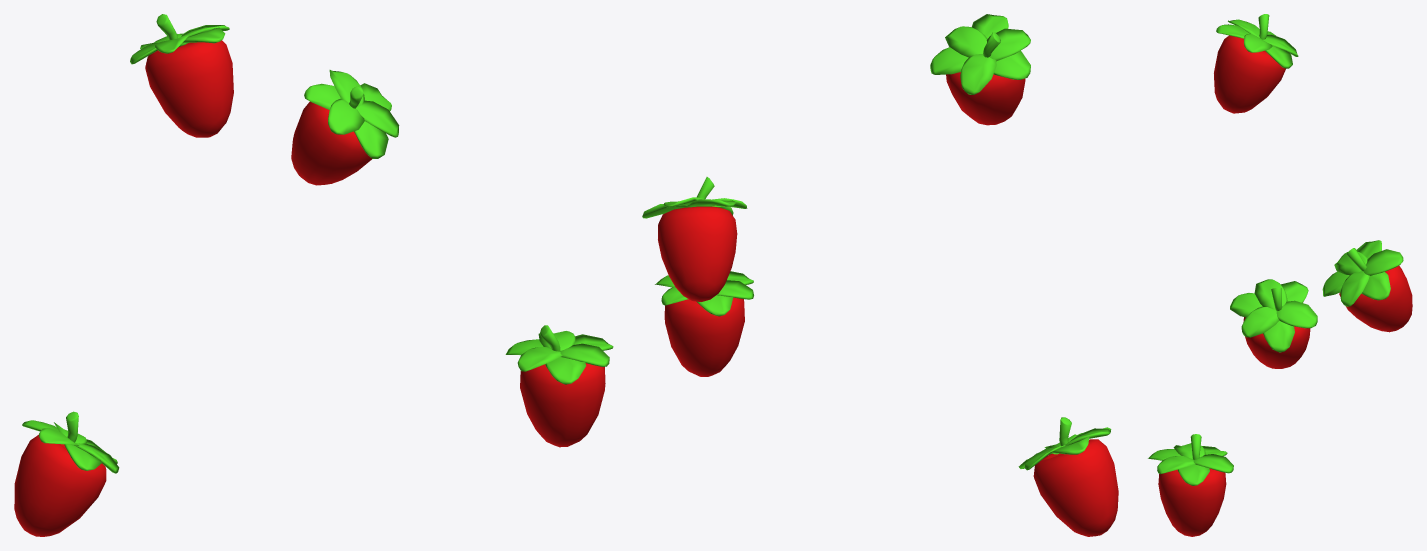
The model's file is Strawberry_Scattered.fbx.
3 renders of one model, left to right at view 1: azimuth 30°, elevation 25°; view 2: azimuth 150°, elevation 25°; view 3: azimuth 270°, elevation 25°, orthographic. The views are drawn at different scales.
Visible parts, largest first — view 1: Cube; view 2: Cube; view 3: Cube.
Boxes of the visible parts, x1,y1,x2,y2 form: Cube: [14, 14, 613, 536]; Cube: [642, 14, 1118, 536]; Cube: [1148, 14, 1412, 536].
Size of the model in its own units: 74.8 by 66.18 by 40.05.
